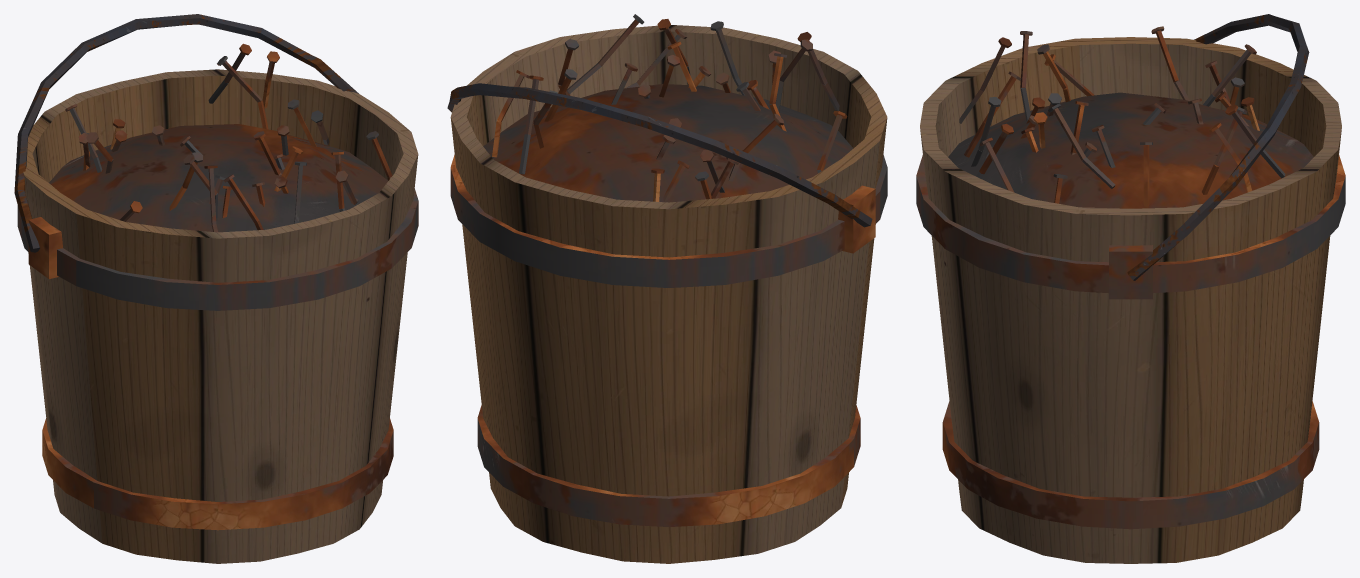
Rendered from Nail_Bucket.glb.
3 views of the same model, side by side, from view 1: azimuth 30°, elevation 25°; view 2: azimuth 150°, elevation 25°; view 3: azimuth 270°, elevation 25° (orthographic). The views are drawn at different scales.
Parts seen in each view (by area): view 1: Nail_Bucket; view 2: Nail_Bucket; view 3: Nail_Bucket.
Boxes of the visible parts, left/top/right/bottom form: Nail_Bucket: left=14, top=14, right=418, bottom=563; Nail_Bucket: left=447, top=14, right=887, bottom=563; Nail_Bucket: left=916, top=14, right=1345, bottom=563.
Bounding box in the file's own units: 0.5264 × 0.5609 × 0.4903.
5 materials, 5 textured.
